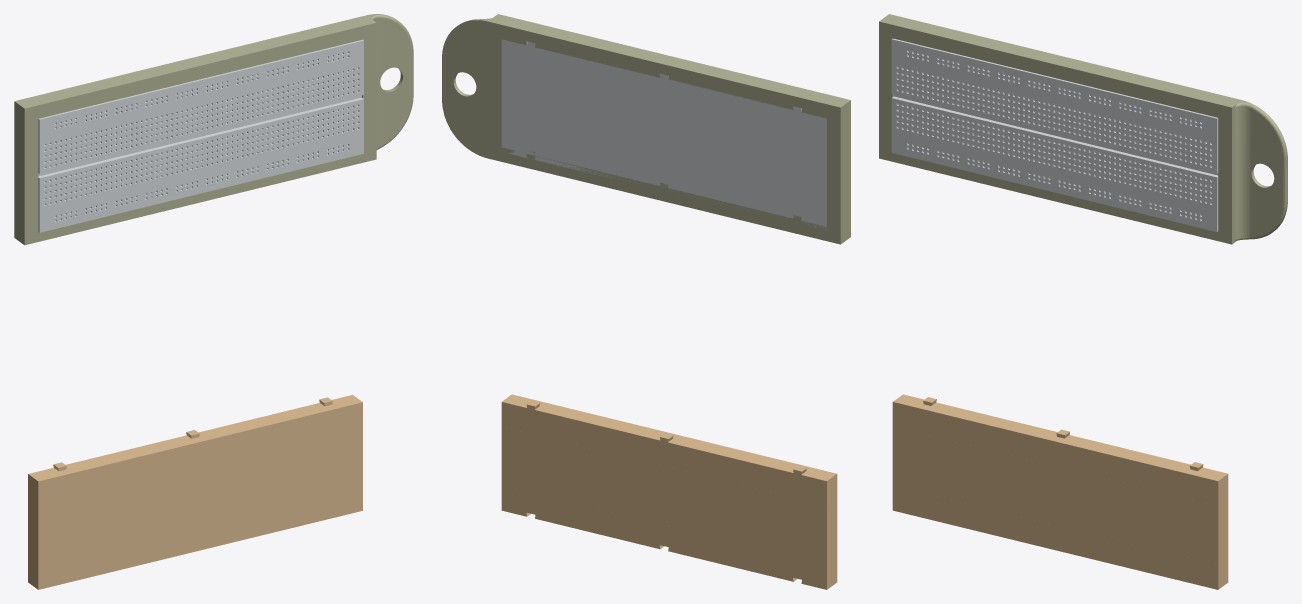
The model's file is tinker.obj.
The picture shows the model from 3 angles, left to right: view 1: azimuth 30°, elevation 25°; view 2: azimuth 150°, elevation 25°; view 3: azimuth 330°, elevation 25°; orthographic projection.
Visible parts, largest first — view 1: obj_1, obj_2, obj_0; view 2: obj_1, obj_2, obj_0; view 3: obj_1, obj_2, obj_0.
Part boxes in pixels (x1=…): obj_1: x1=28, y1=395, x2=362, y2=589; obj_2: x1=38, y1=39, x2=363, y2=232; obj_0: x1=14, y1=14, x2=413, y2=245; obj_1: x1=501, y1=394, x2=837, y2=589; obj_2: x1=501, y1=39, x2=826, y2=230; obj_0: x1=442, y1=14, x2=850, y2=244; obj_1: x1=892, y1=394, x2=1228, y2=589; obj_2: x1=891, y1=38, x2=1218, y2=231; obj_0: x1=879, y1=14, x2=1287, y2=244.
Bounding box in the file's own units: 202 × 235 × 10.
